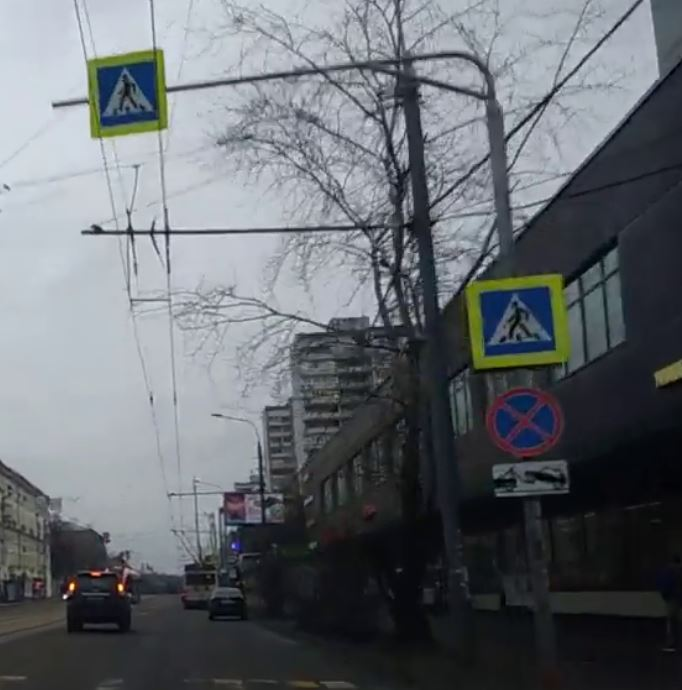Yaya Gecidi: (472, 285, 557, 353), (99, 63, 159, 120)
